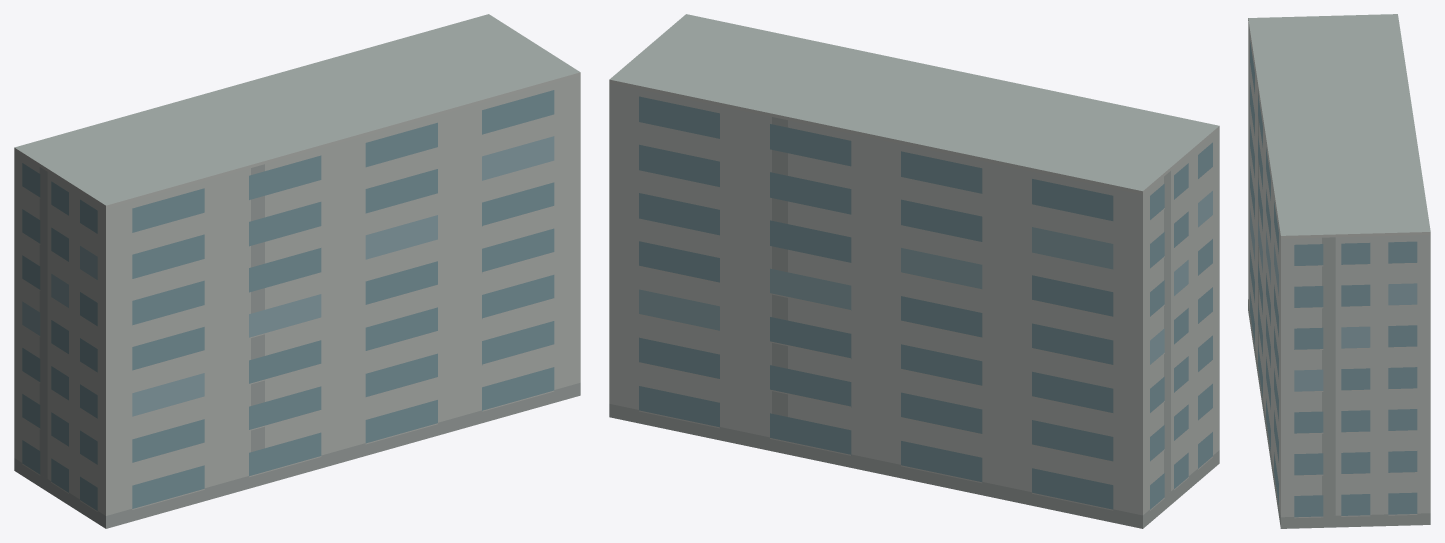
Rendered from residential-3dad1f8c-b381-475f-8d27-93e5b95706c6.glb.
3 renders of one model, left to right at view 1: azimuth 30°, elevation 25°; view 2: azimuth 150°, elevation 25°; view 3: azimuth 270°, elevation 25°, orthographic. The views are drawn at different scales.
Parts seen in each view (by area): view 1: residential-3dad1f8c-b381-475f-8d27-93e5b95706c6.tmp; view 2: residential-3dad1f8c-b381-475f-8d27-93e5b95706c6.tmp; view 3: residential-3dad1f8c-b381-475f-8d27-93e5b95706c6.tmp.
Boxes of the visible parts, x1,y1,x2,y2 form: residential-3dad1f8c-b381-475f-8d27-93e5b95706c6.tmp: (14, 14, 580, 528); residential-3dad1f8c-b381-475f-8d27-93e5b95706c6.tmp: (609, 14, 1219, 528); residential-3dad1f8c-b381-475f-8d27-93e5b95706c6.tmp: (1248, 14, 1430, 528).
Size of the model in its own units: 40.62 by 25 by 14.13.
